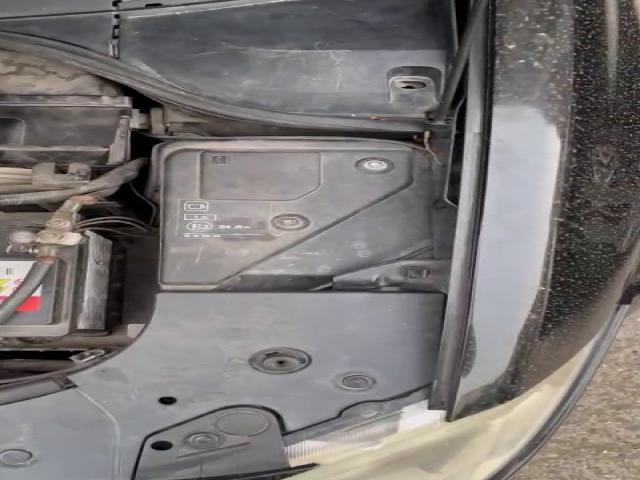accumulator: (1, 212, 120, 347)
fuse_box: (151, 137, 437, 291)
